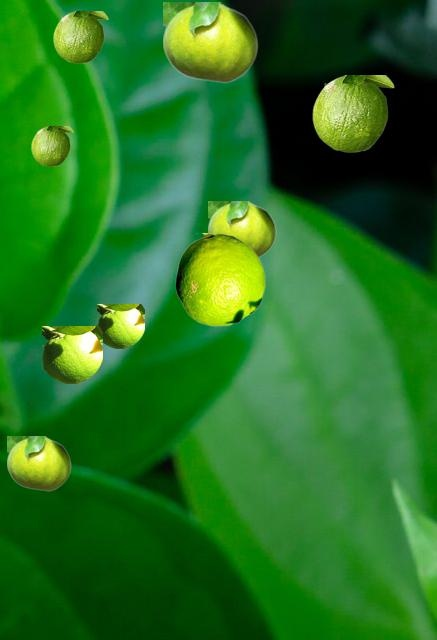dalandan: (175, 233, 264, 325), (163, 2, 257, 82), (312, 75, 393, 151), (208, 201, 275, 257), (7, 436, 70, 490), (42, 326, 101, 382), (53, 11, 107, 62), (97, 304, 143, 347), (31, 126, 72, 165)
